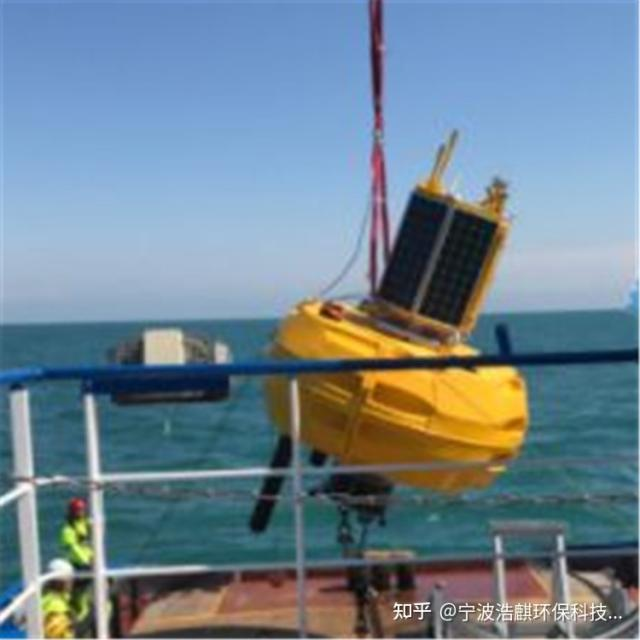buoy: (263, 146, 535, 486)
